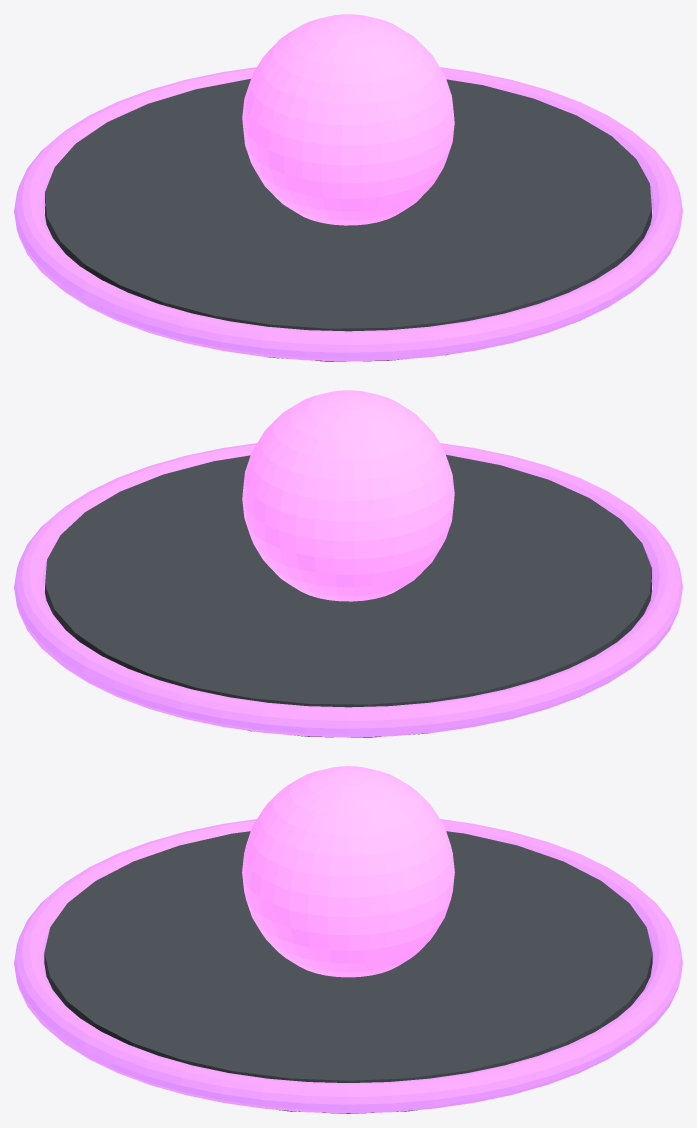
The model's file is channel_alarm.glb.
3 renders of one model, top to bottom at view 1: azimuth 30°, elevation 25°; view 2: azimuth 150°, elevation 25°; view 3: azimuth 270°, elevation 25°, orthographic.
Parts seen in each view (by area): view 1: alarm_base, alarm_emblem, alarm_glow; view 2: alarm_base, alarm_emblem, alarm_glow; view 3: alarm_base, alarm_emblem, alarm_glow.
Part boxes in pixels (bbox=[...]): alarm_base: bbox=[45, 78, 651, 361]; alarm_emblem: bbox=[242, 14, 454, 225]; alarm_glow: bbox=[14, 67, 682, 361]; alarm_base: bbox=[45, 454, 651, 737]; alarm_emblem: bbox=[242, 390, 454, 601]; alarm_glow: bbox=[14, 443, 682, 737]; alarm_base: bbox=[44, 831, 652, 1113]; alarm_emblem: bbox=[242, 766, 454, 977]; alarm_glow: bbox=[14, 819, 682, 1113].
Size of the model in its own units: 2.2 by 0.76 by 2.2.
